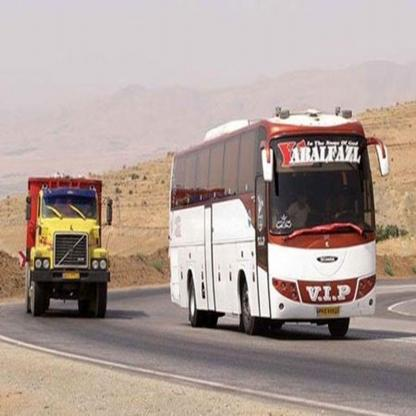Bus: (166, 116, 388, 338)
Truck: (18, 173, 115, 321)
